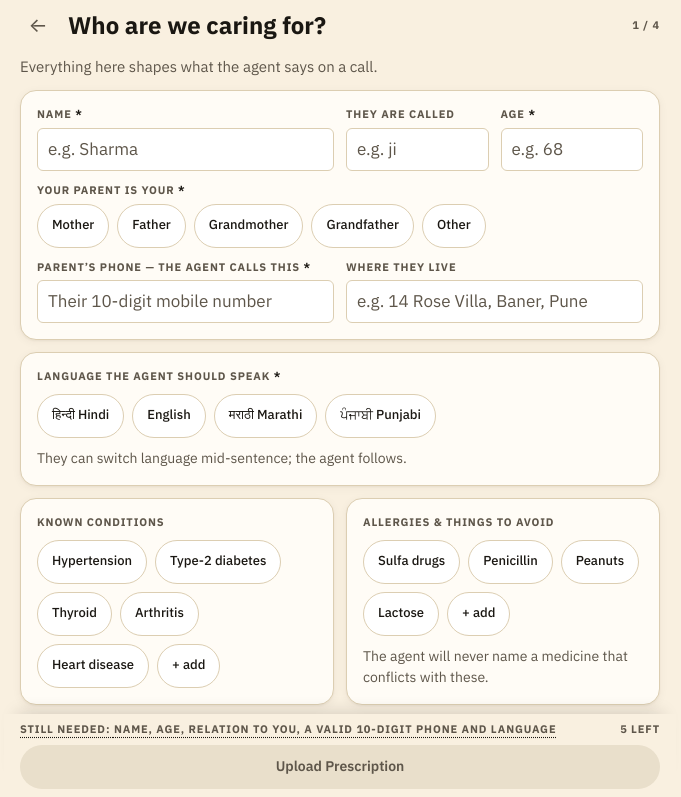
Scenario: the parent form CTA › enables once name, age, relation, phone and language are in
The width and height of the screenshot is (681, 797).
Type "Sharma" into the field named "Name". click: (186, 149)
box: x1=37 y1=128 x2=334 y2=171
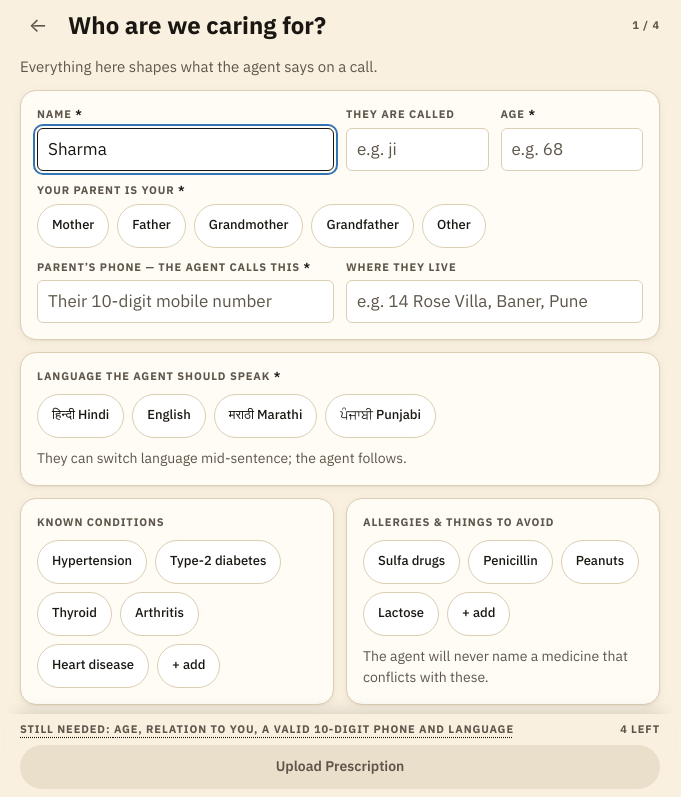
Type "68" into the field named "Age". click: (572, 149)
box: x1=500 y1=128 x2=643 y2=171
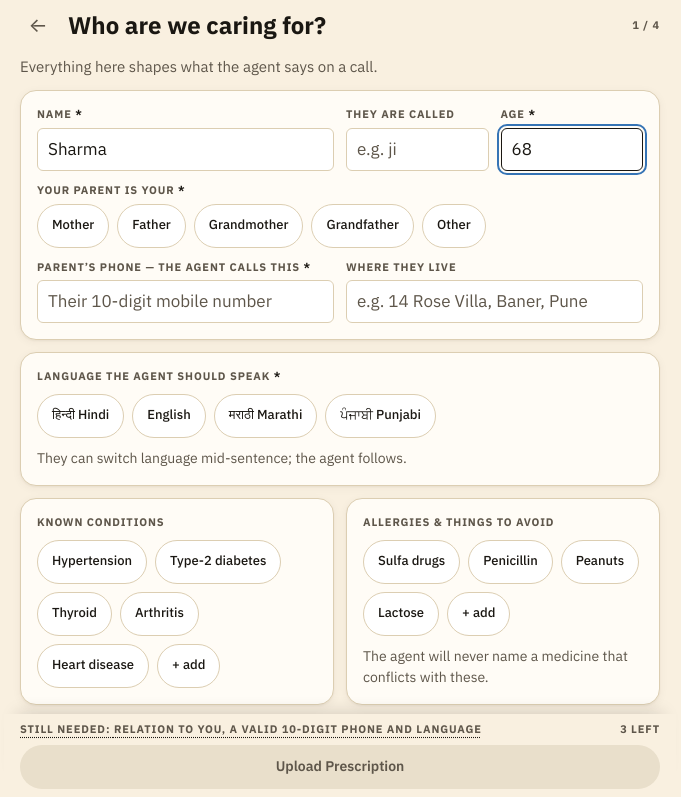
Click the button "Mother". click: click(73, 226)
box: x1=37 y1=204 x2=109 y2=248
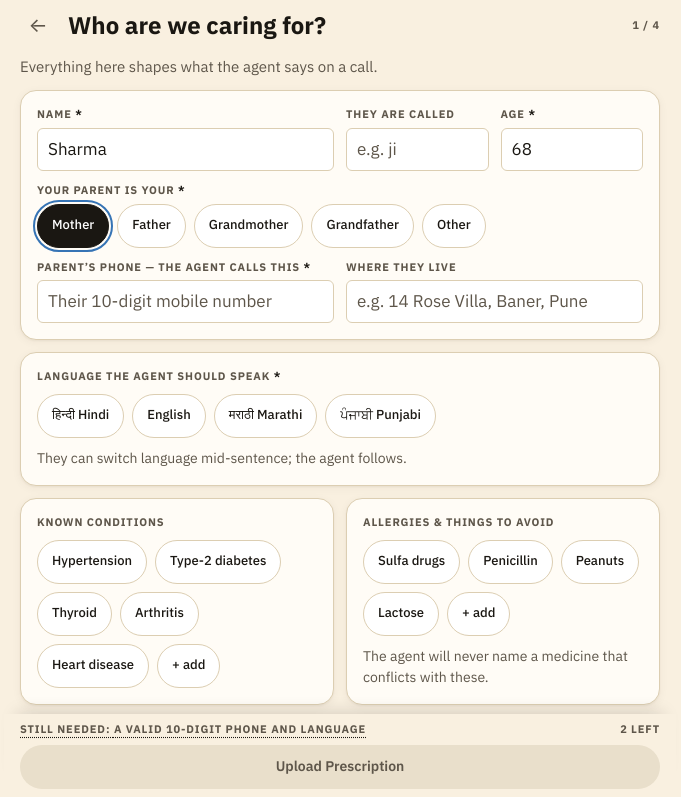
Type "9876543210" into the field named "the agent calls this". click: (186, 302)
box: x1=37 y1=280 x2=334 y2=323
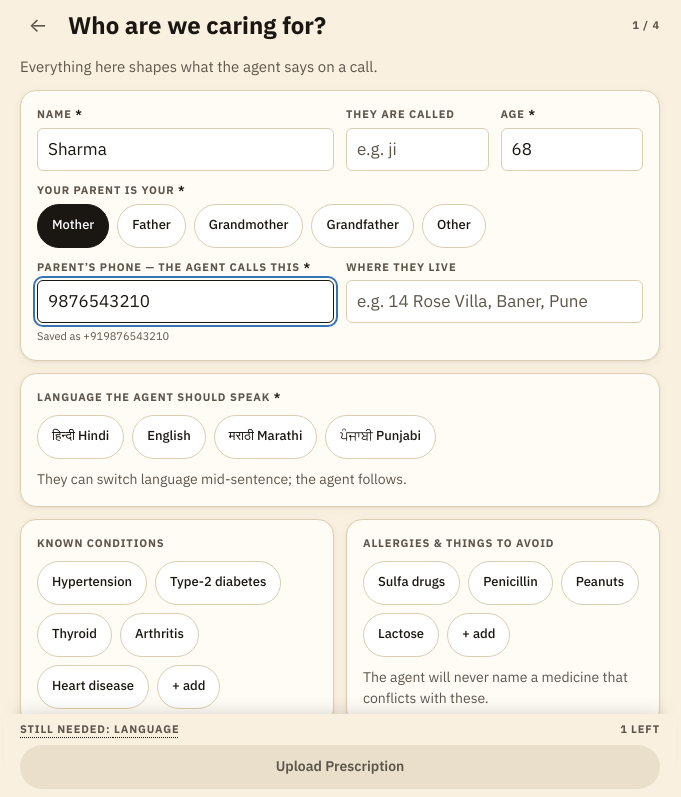
Click the button "हिन्दी Hindi". click: click(81, 437)
box: x1=37 y1=415 x2=124 y2=459
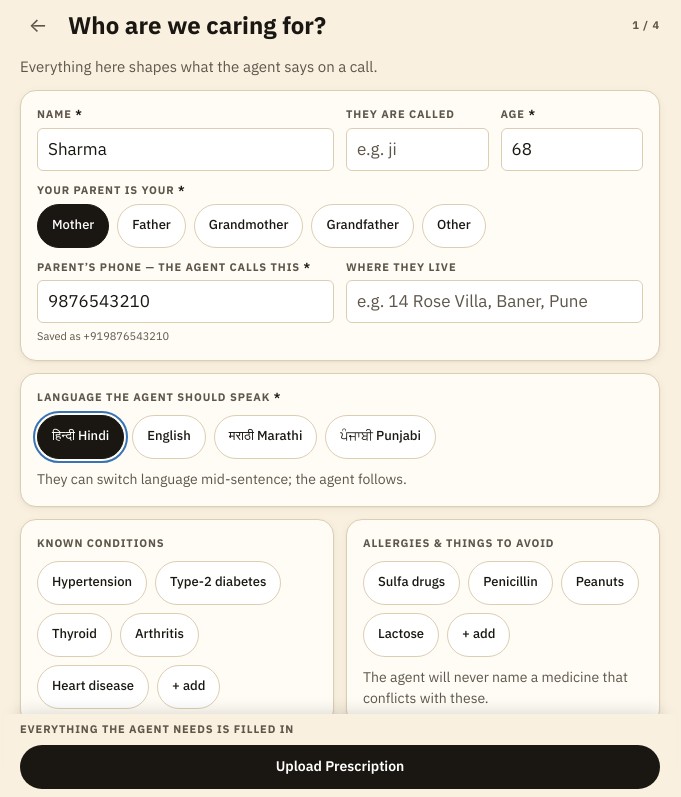
Now the text "1 left" is gone
Now the button "Upload Prescription" is enabled, box x1=20 y1=745 x2=660 y2=789
